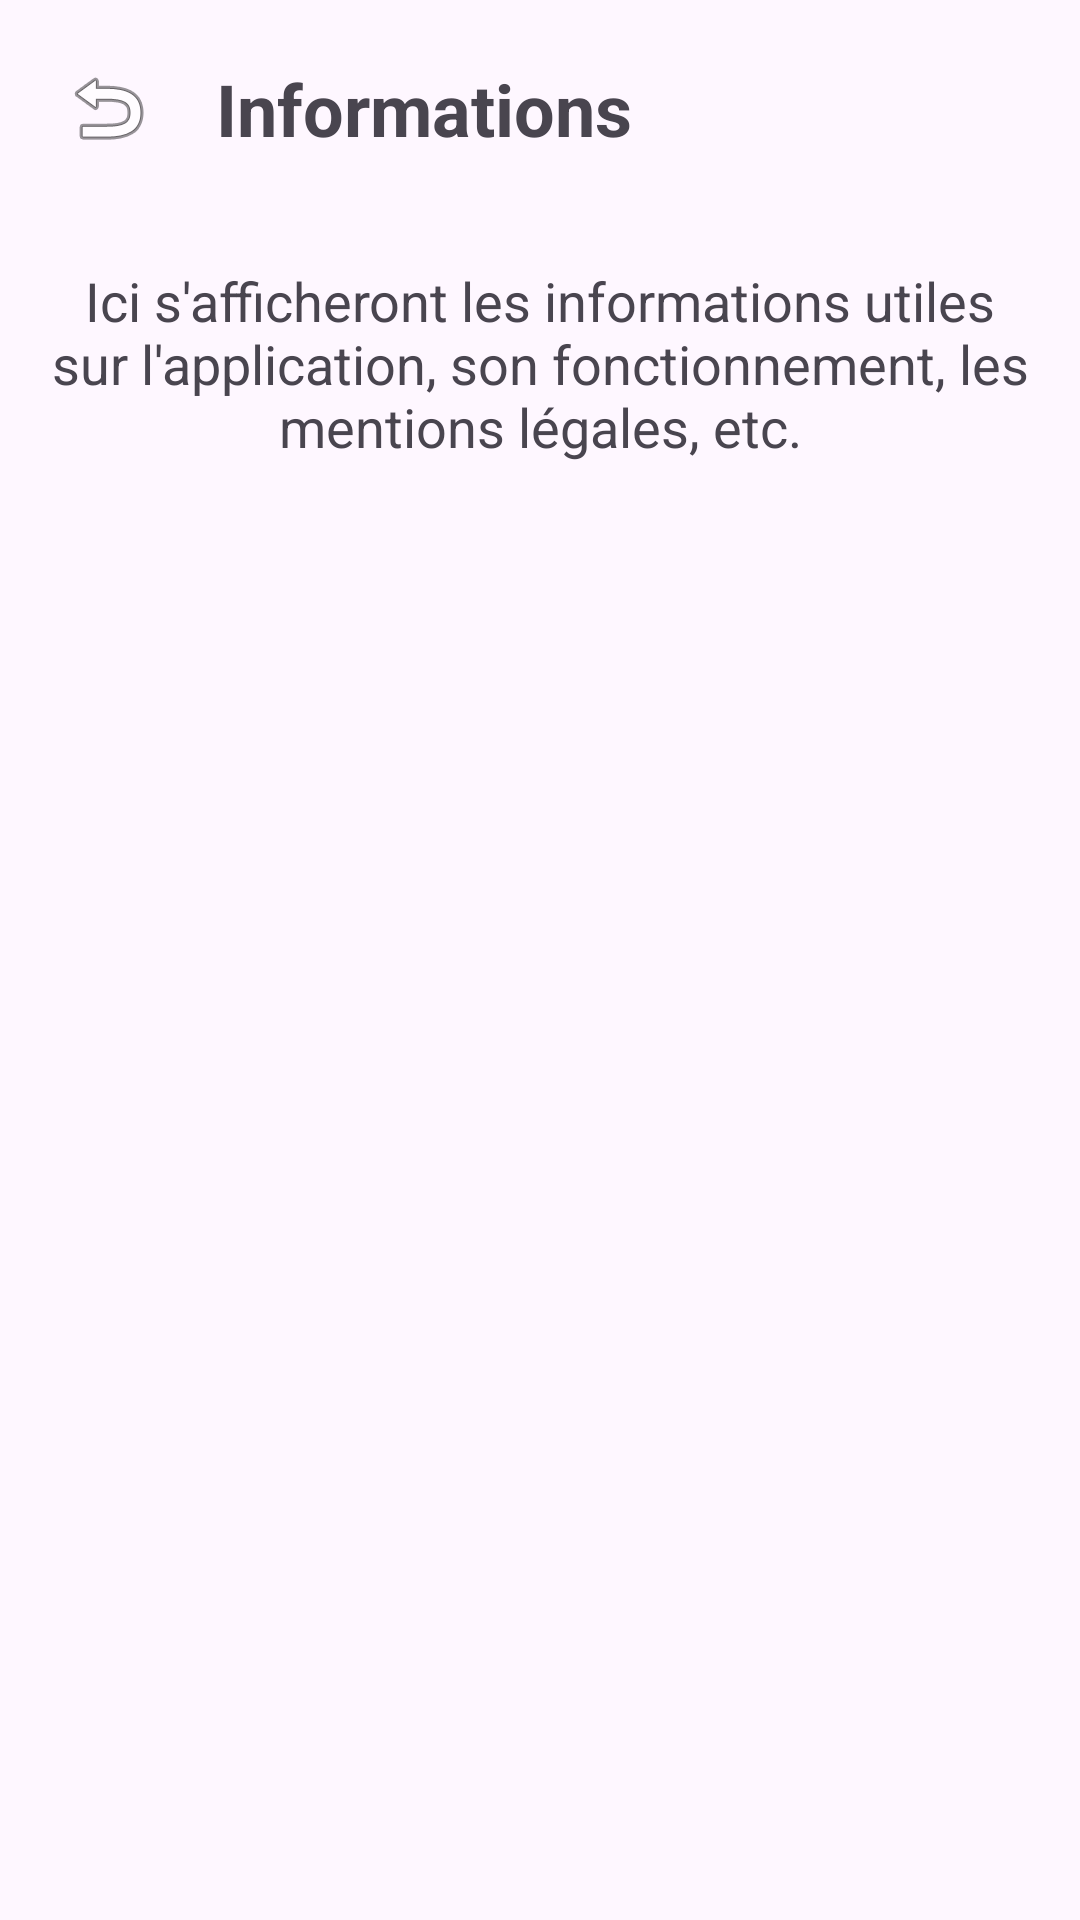

Icons on this 1080w x 1920h Android screen, each with the point to tap as (x=x, y=y):
Retour: (x=109, y=108)
